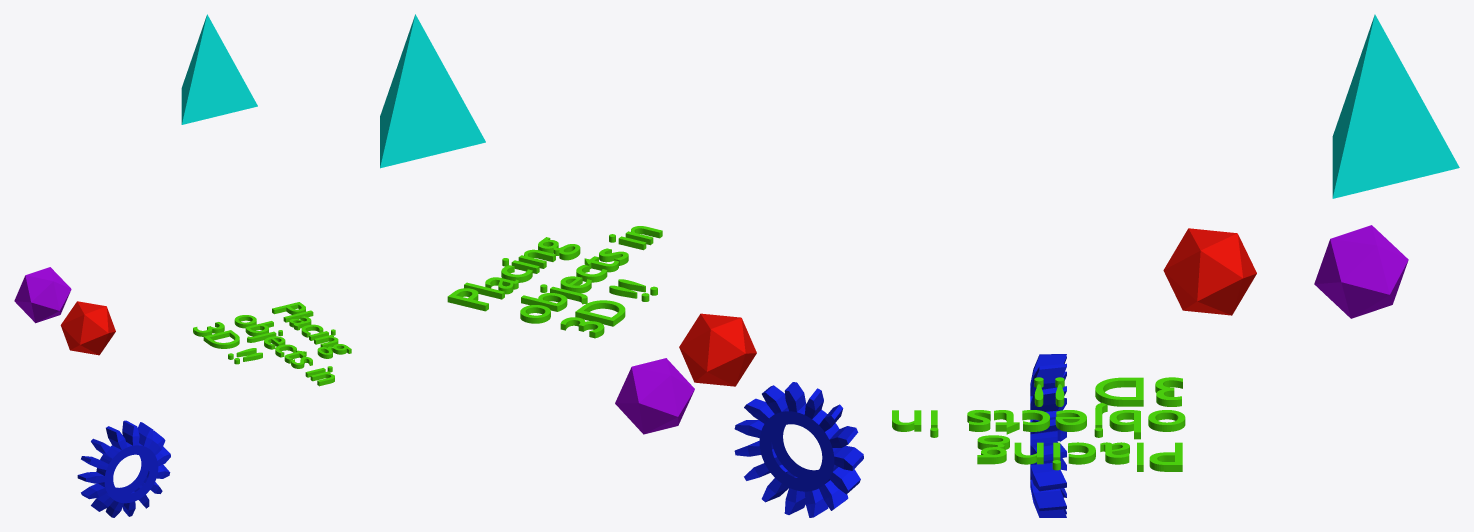
Rendered from cubescene3.glb.
3 views of the same model, side by side, from view 1: azimuth 30°, elevation 25°; view 2: azimuth 150°, elevation 25°; view 3: azimuth 270°, elevation 25° (orthographic). The views are drawn at different scales.
Parts seen in each view (by area): view 1: objects; view 2: objects; view 3: objects.
Part boxes in pixels (x1,y1,x2,y2): objects: [14, 14, 351, 517]; objects: [380, 14, 863, 517]; objects: [892, 14, 1459, 517].
Bounding box in the file's own units: 0.1477 × 0.2091 × 0.1676.
